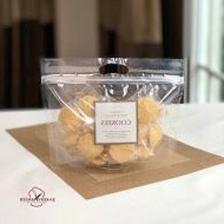snack: (32, 49, 196, 178)
